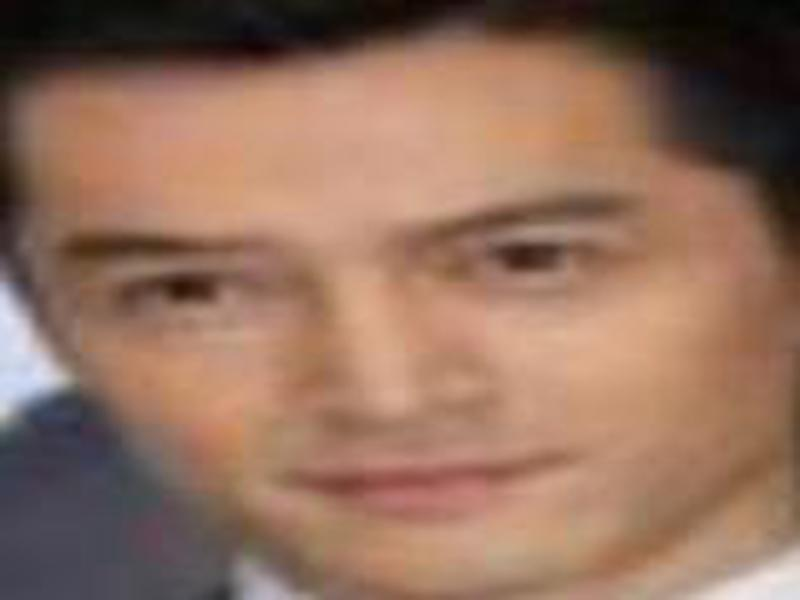without_mask: (14, 97, 774, 591)
